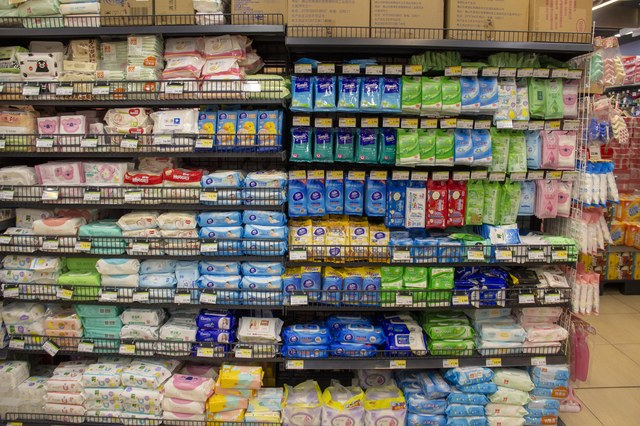Nestle Cerelac Wheat: (32, 21, 608, 405)
